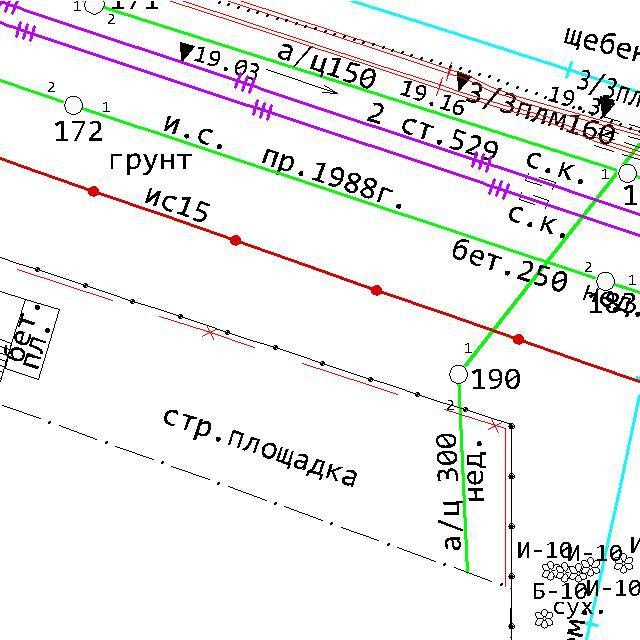bushes: (613, 552, 634, 576), (533, 607, 555, 629), (540, 559, 560, 582), (581, 555, 601, 578), (568, 562, 588, 584), (556, 561, 572, 583)
mark: (454, 69, 472, 95), (178, 40, 195, 64), (599, 95, 616, 119)
well: (446, 362, 471, 387), (61, 93, 85, 118), (594, 269, 617, 294), (616, 162, 639, 186)
